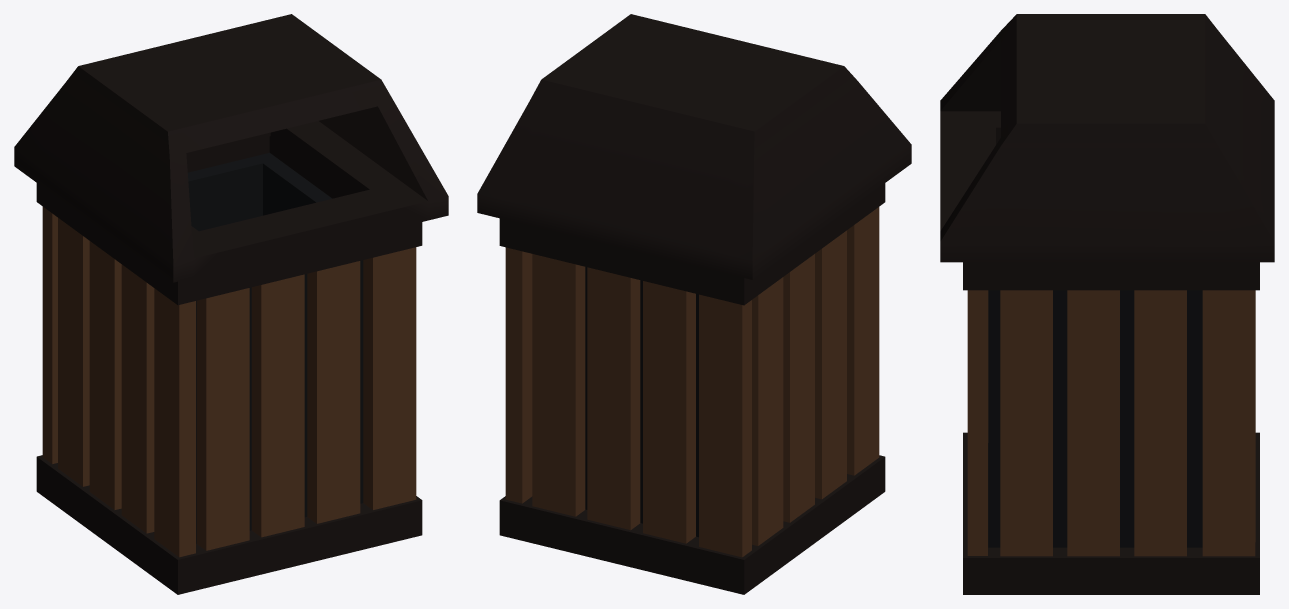
Rendered from Trash_Bin.fbx.
The picture shows the model from 3 angles, left to right: view 1: azimuth 30°, elevation 25°; view 2: azimuth 150°, elevation 25°; view 3: azimuth 270°, elevation 25°; orthographic projection. The views are drawn at different scales.
Parts seen in each view (by area): view 1: Trash; view 2: Trash; view 3: Trash.
Part boxes in pixels (left/top/right/bottom): Trash: left=14, top=14, right=448, bottom=594; Trash: left=477, top=14, right=911, bottom=594; Trash: left=940, top=14, right=1274, bottom=594.
Size of the model in its own units: 130 by 199 by 130.
